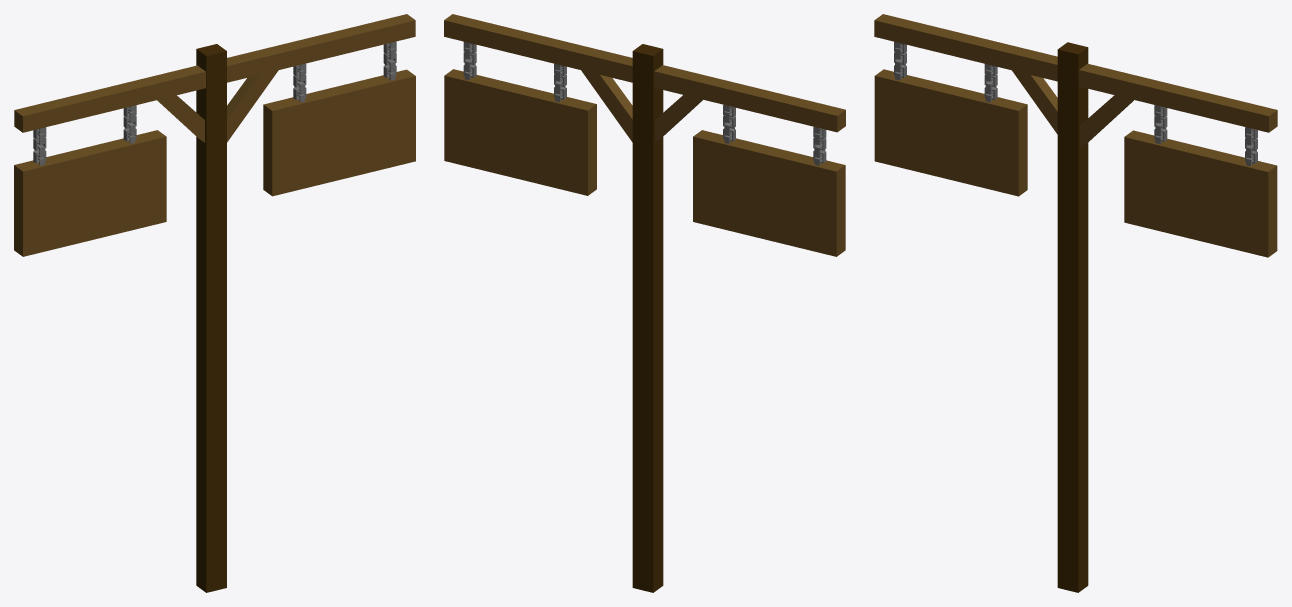
File: mesh_post_with_double_sign.fbx
3 renders of one model, left to right at view 1: azimuth 30°, elevation 25°; view 2: azimuth 150°, elevation 25°; view 3: azimuth 330°, elevation 25°, orthographic.
Parts seen in each view (by area): view 1: post_with_double_sign; view 2: post_with_double_sign; view 3: post_with_double_sign.
Boxes of the visible parts, x1=… form: post_with_double_sign: x1=14, y1=14, x2=415, y2=592; post_with_double_sign: x1=444, y1=14, x2=845, y2=592; post_with_double_sign: x1=874, y1=14, x2=1277, y2=592.
Bounding box in the file's own units: 247 × 323 × 10.79.
1 material, 1 textured.
